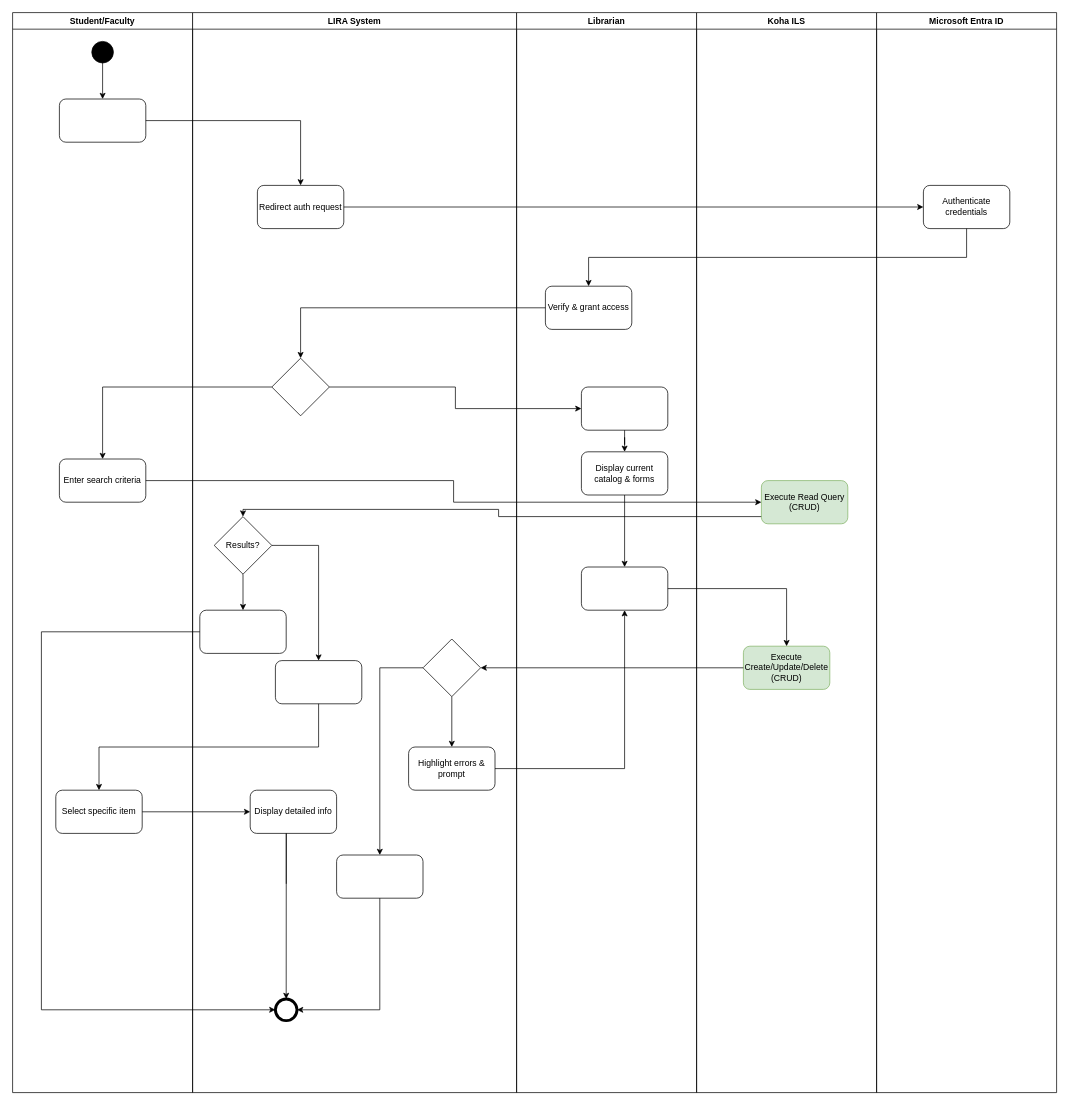
Some shapes in this 1069 by 1105 pixel diagram are drawn without their labels. The shapes that lost their labels are listed below. From the top down, each one's centre as x and y in pixels, then its label:
pixel 102 120: Access portal & initiate sign-in
pixel 300 386: User Role?
pixel 624 408: Access management dashboard
pixel 624 588: Submit new details / confirm deletion
pixel 242 631: Display "No results found"
pixel 318 682: Display list of items
pixel 451 667: Valid?
pixel 379 876: Display success message
